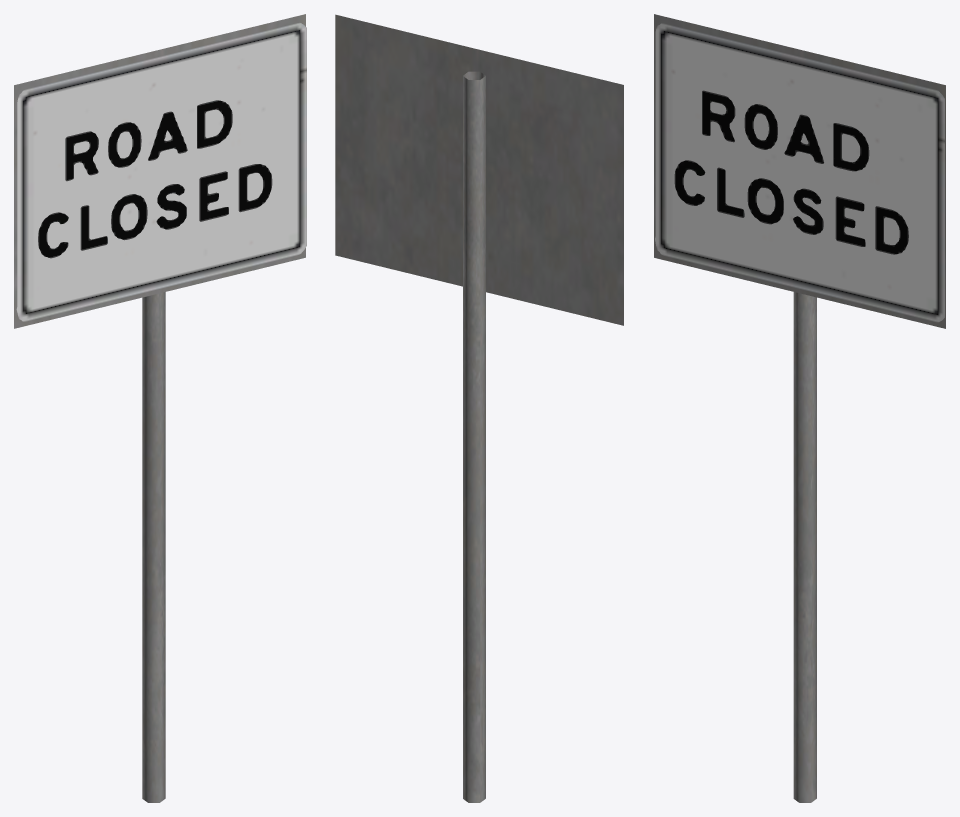
The model's file is construction_sign_small_c.DAE.
The picture shows the model from 3 angles, left to right: view 1: azimuth 30°, elevation 25°; view 2: azimuth 150°, elevation 25°; view 3: azimuth 330°, elevation 25°; orthographic projection.
Visible parts, largest first — view 1: RoadClosed_sign_small_c30; view 2: RoadClosed_sign_small_c30; view 3: RoadClosed_sign_small_c30.
Boxes of the visible parts, x1,y1,x2,y2 form: RoadClosed_sign_small_c30: (14,14,306,802); RoadClosed_sign_small_c30: (335,14,623,802); RoadClosed_sign_small_c30: (654,14,945,802).
Size of the model in its own units: 1.06 by 0.0832 by 2.61.
